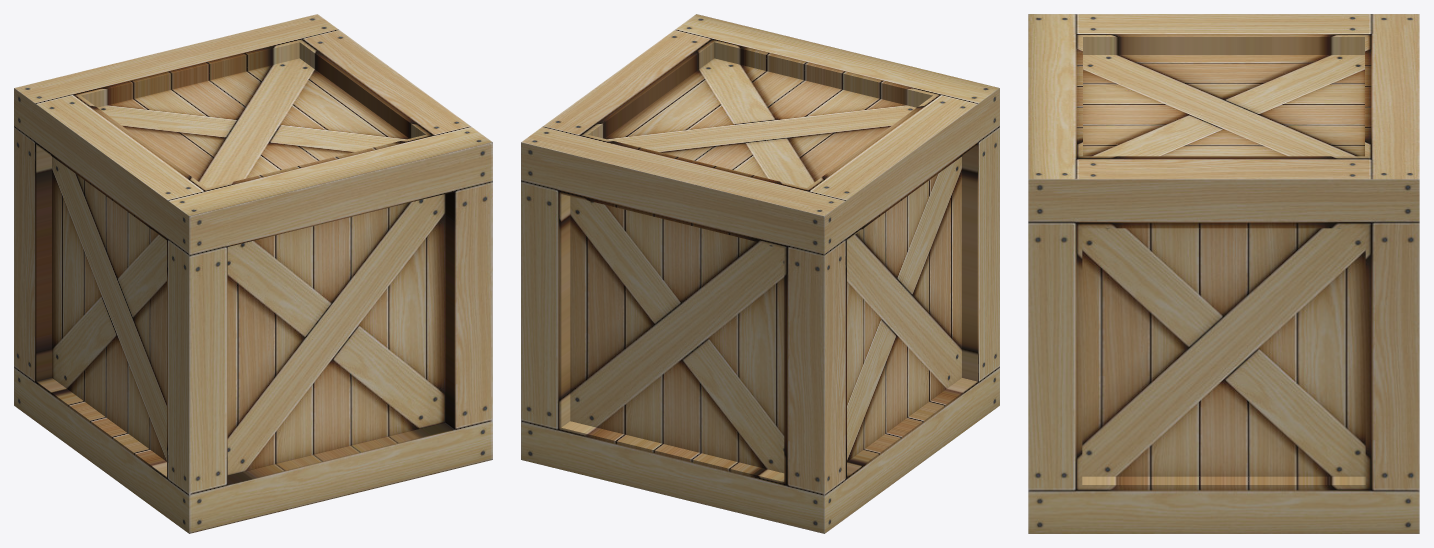
File: caja 1.fbx
3 renders of one model, left to right at view 1: azimuth 30°, elevation 25°; view 2: azimuth 150°, elevation 25°; view 3: azimuth 270°, elevation 25°, orthographic. The views are drawn at different scales.
Parts seen in each view (by area): view 1: Cube; view 2: Cube; view 3: Cube.
Part boxes in pixels (x1=…): Cube: x1=14, y1=14, x2=492, y2=533; Cube: x1=521, y1=14, x2=999, y2=533; Cube: x1=1028, y1=14, x2=1419, y2=533.
Size of the model in its own units: 580 by 580 by 580.
Materials: 1 (1 with a texture image).
